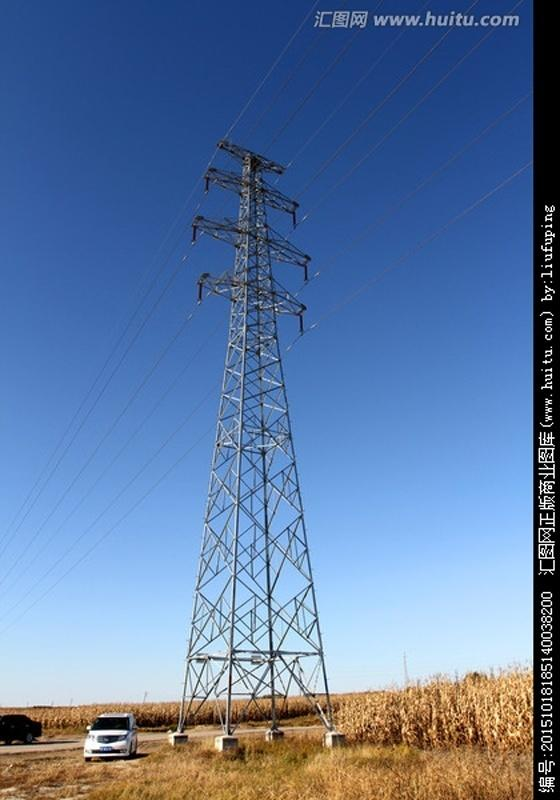power_tower: (171, 135, 343, 707)
